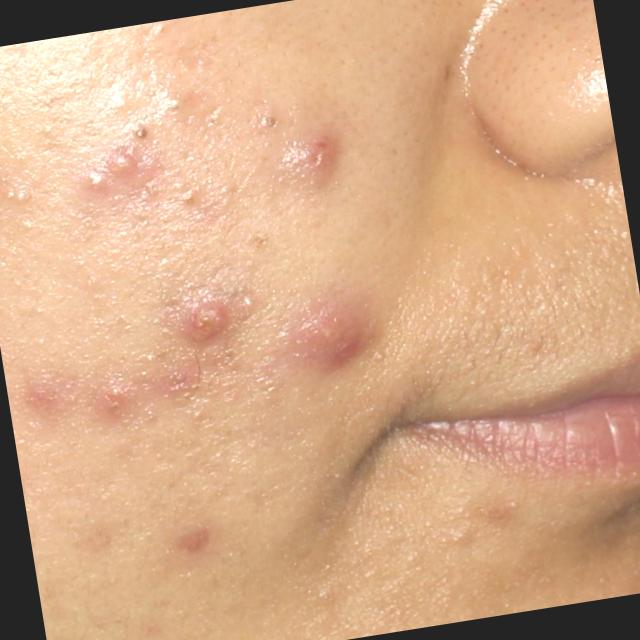blackhead: (266, 116, 278, 128), (136, 128, 148, 138), (171, 104, 180, 110), (256, 238, 263, 245), (187, 197, 191, 200)
nodule: (291, 304, 365, 370), (286, 139, 336, 183), (107, 151, 140, 178)
